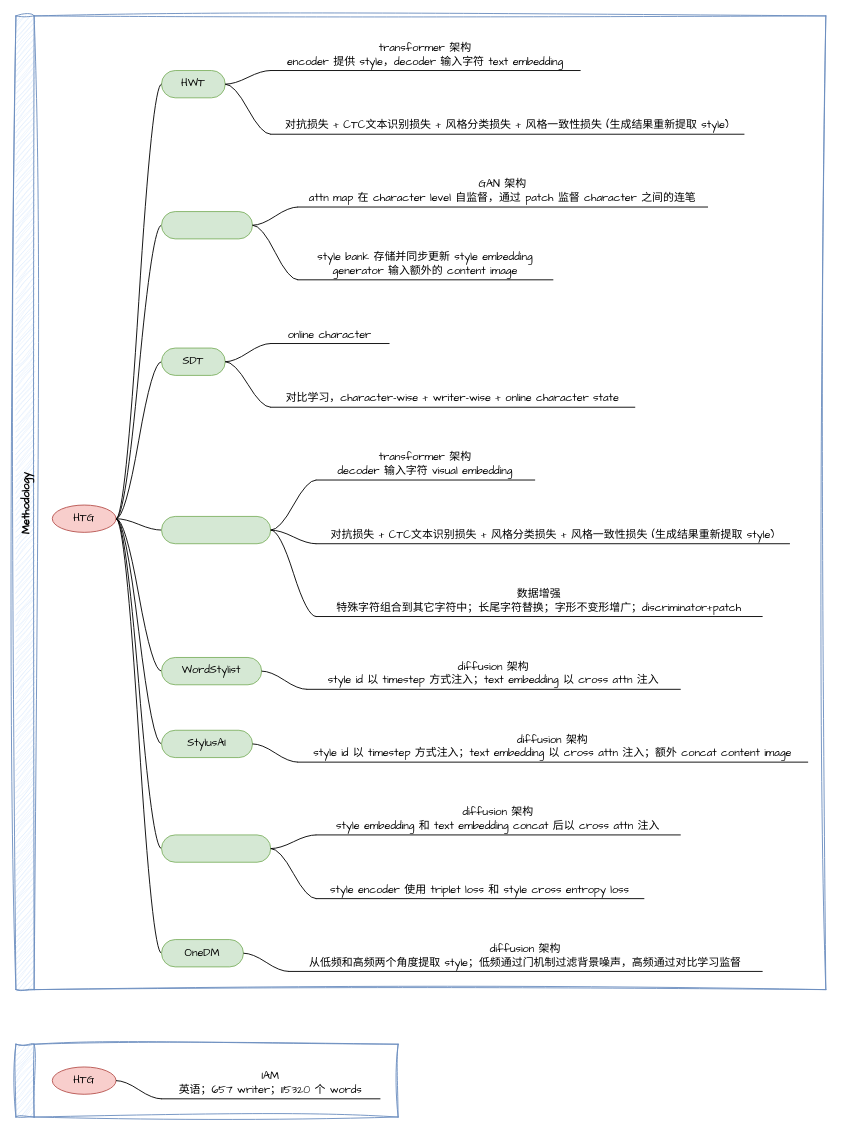
Image size: 842x1133. Some labels were removed from this diagram. Here are the shapes that lost their labels. From the top down, the box of each, then its label:
(161, 211, 253, 239): SLOGAN
(161, 516, 271, 544): VATr/VATr++
(161, 834, 271, 862): DiffusionPen
(15, 1043, 398, 1117): Dataset
